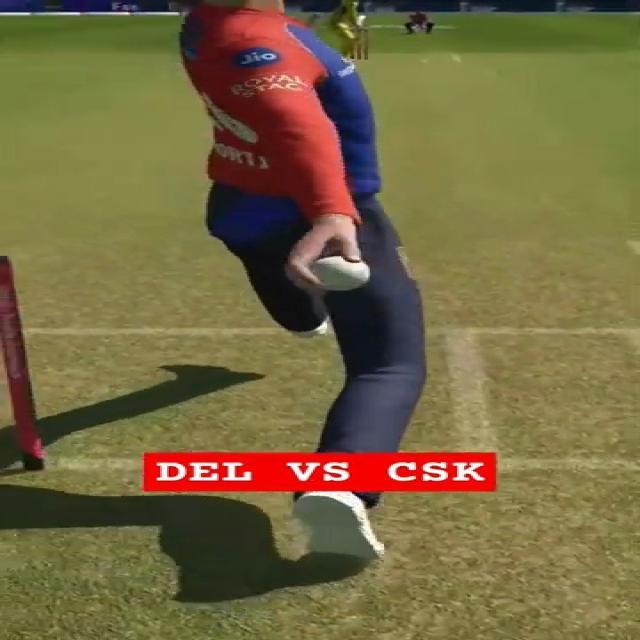ball: (304, 253, 377, 293)
